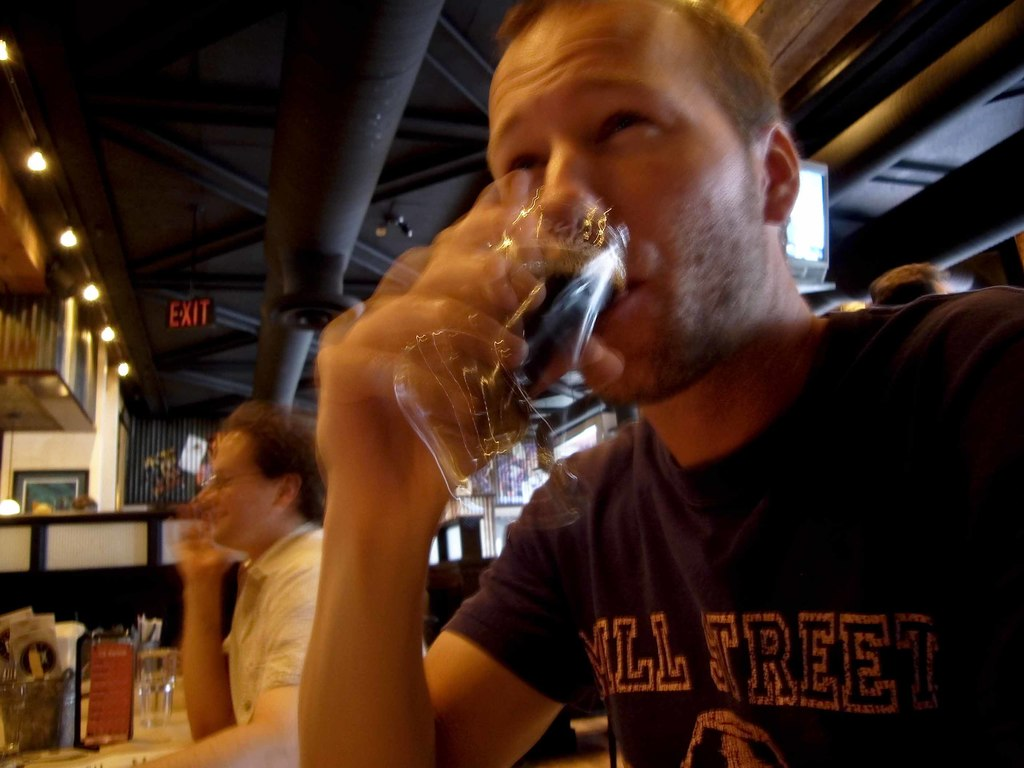Beer: (396, 202, 656, 496)
